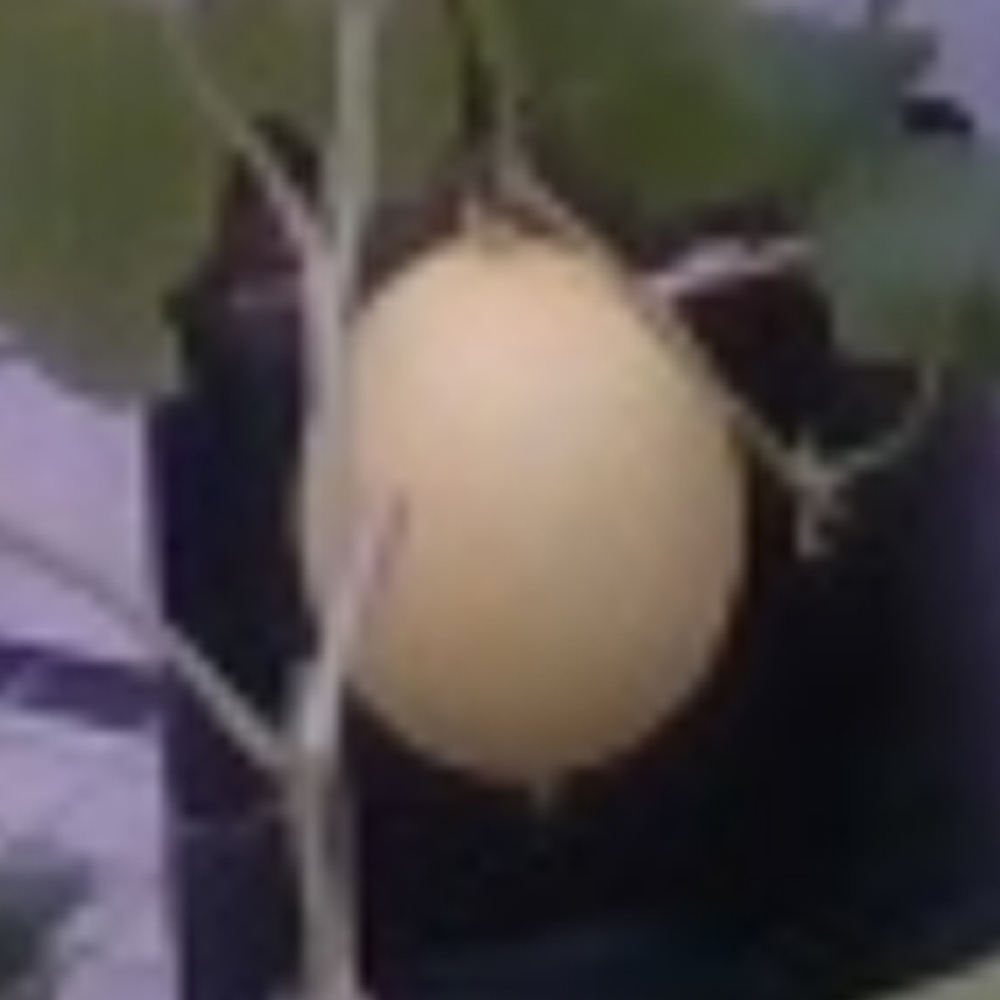melon: (287, 234, 756, 796)
